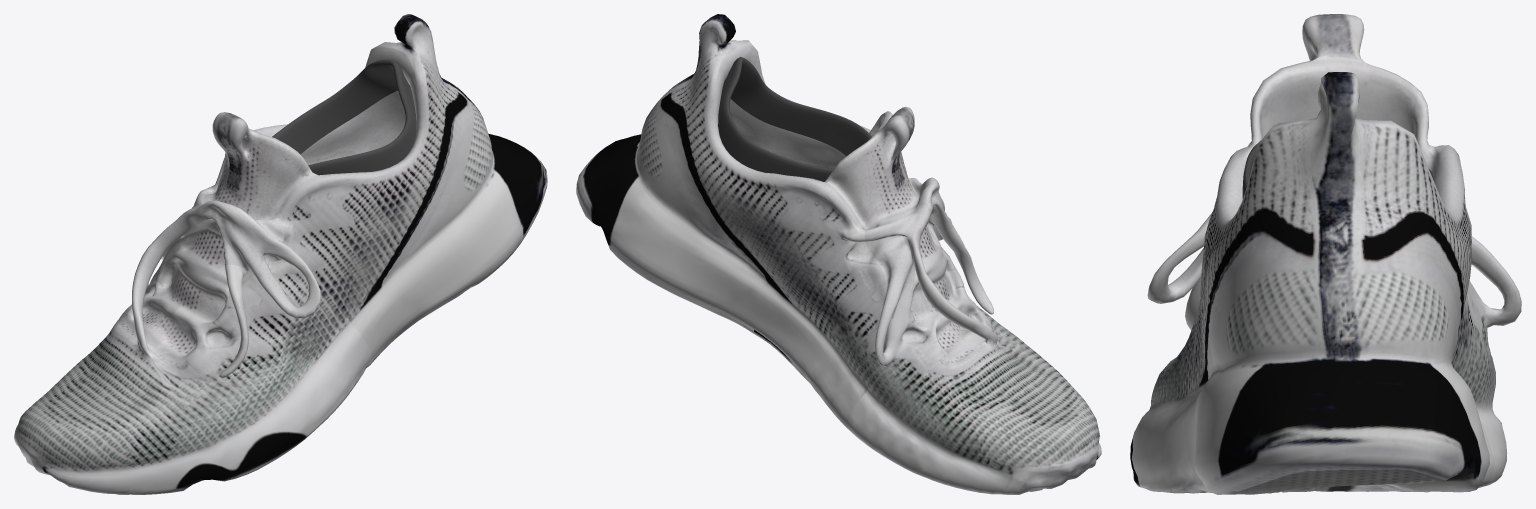
File: shoe.glb
3 renders of one model, left to right at view 1: azimuth 30°, elevation 25°; view 2: azimuth 150°, elevation 25°; view 3: azimuth 270°, elevation 25°, orthographic. The views are drawn at different scales.
Parts seen in each view (by area): view 1: Shoe; view 2: Shoe; view 3: Shoe.
Part boxes in pixels (x1,y1,x2,y2): Shoe: [14, 14, 547, 494]; Shoe: [576, 14, 1101, 494]; Shoe: [1130, 14, 1521, 494].
Bounding box in the file's own units: 33 × 23.65 × 13.69.
Materials: 2 (1 with a texture image).
